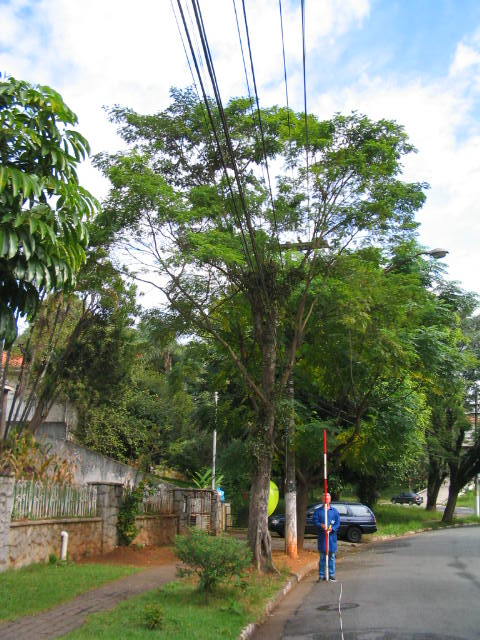crown: (95, 85, 431, 346)
stem: (241, 407, 285, 574)
stick: (312, 428, 336, 580)
tree: (93, 84, 433, 578), (423, 398, 478, 524)
